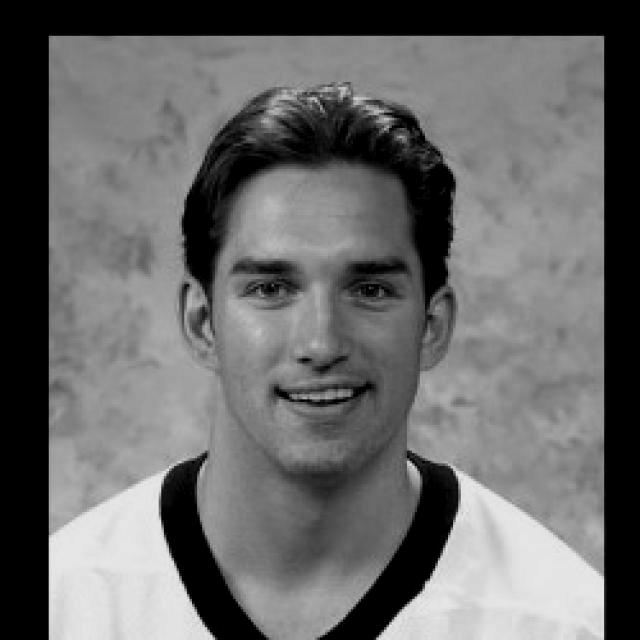real: (210, 160, 424, 474), (231, 254, 400, 320)
